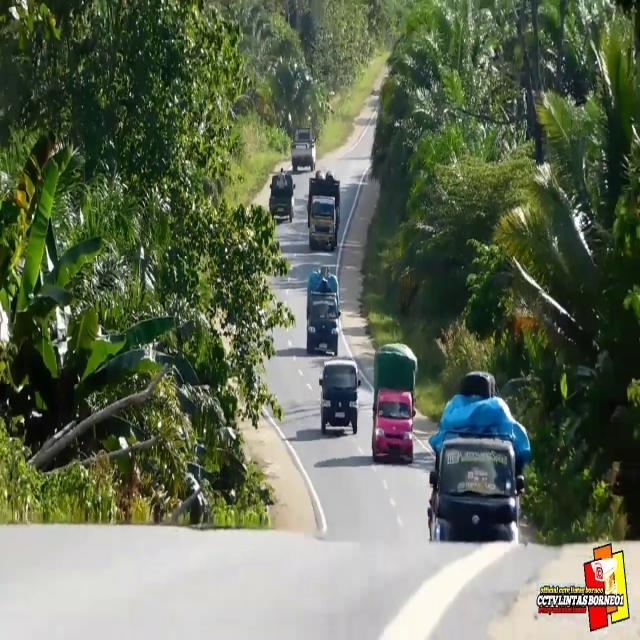Golongan IVB: (427, 429, 521, 543), (371, 389, 418, 463), (319, 358, 360, 435), (306, 292, 340, 355), (269, 172, 295, 223), (292, 129, 316, 172)
